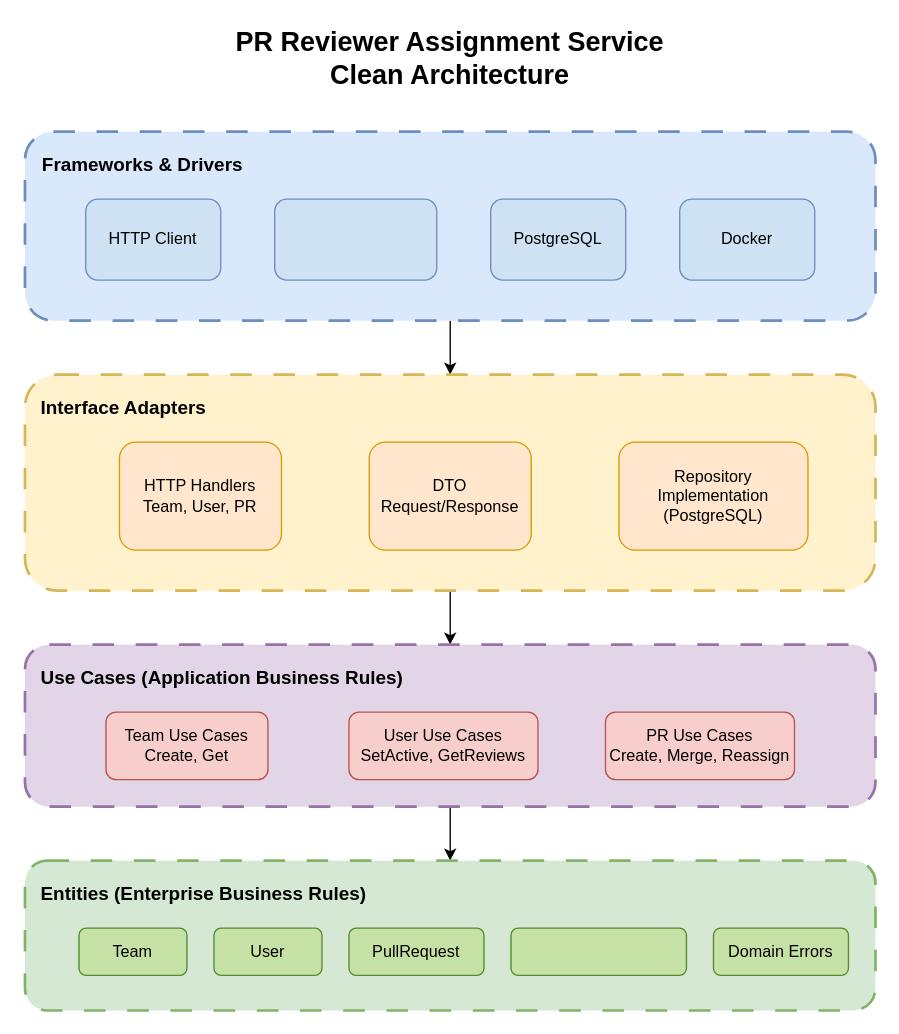
The diagram is 899 pixels wide and 1034 high, and some of its shapes have lost their labels. Here are the shapes that lost their labels. From the top down, the box of each, then its label:
(273, 198, 437, 280): Gin Router (Port 8080)
(510, 927, 686, 975): ReviewerAssigner
